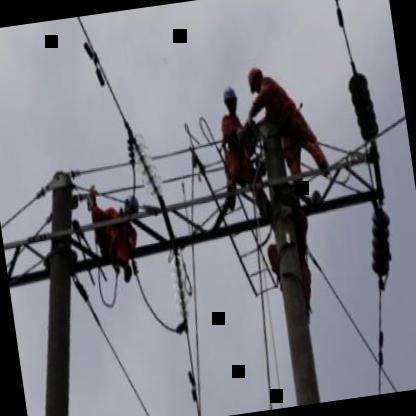helmet: (244, 63, 268, 94), (219, 86, 240, 115)
